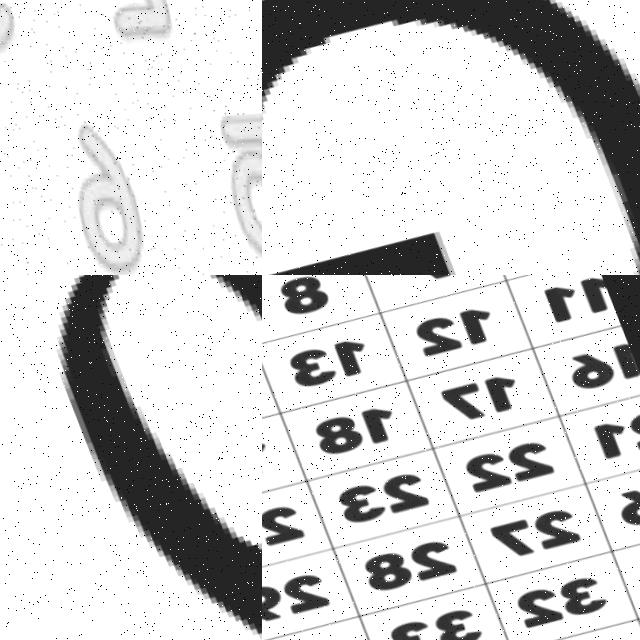1: (348, 390, 407, 447), (323, 323, 378, 379), (477, 357, 530, 412), (532, 275, 586, 326), (582, 408, 633, 459), (456, 292, 504, 344), (604, 328, 640, 374), (575, 275, 616, 312), (262, 426, 275, 479)
2: (62, 0, 205, 52), (452, 434, 514, 495), (271, 558, 333, 619), (494, 425, 559, 482), (522, 490, 584, 549), (399, 523, 457, 582), (402, 304, 459, 359), (507, 573, 564, 628), (372, 461, 429, 515), (262, 494, 307, 549), (613, 393, 640, 450)
3: (545, 559, 609, 618), (323, 472, 385, 530), (276, 337, 334, 394), (422, 596, 479, 640), (373, 604, 435, 640), (569, 623, 634, 640), (296, 626, 360, 640)
5: (183, 84, 262, 275)
6: (27, 94, 176, 275), (551, 333, 617, 391), (603, 471, 640, 527)
7: (429, 365, 492, 429), (477, 503, 539, 561)
8: (348, 538, 413, 596), (300, 402, 365, 459), (263, 275, 339, 322)
9: (3, 275, 262, 640), (262, 572, 290, 628)
G: (262, 0, 640, 275)
